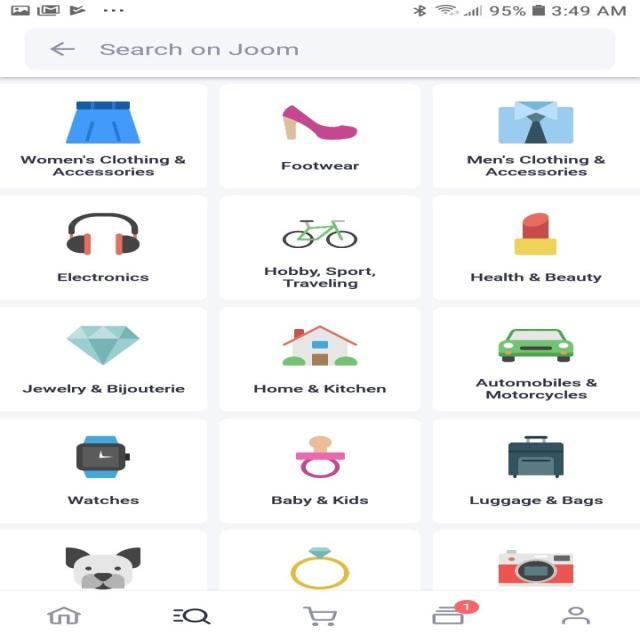EditText: (24, 27, 614, 70)
Icon: (431, 600, 478, 624), (302, 606, 337, 626), (172, 608, 210, 625), (46, 606, 81, 624), (560, 606, 590, 624), (50, 42, 74, 56)
Image: (64, 547, 140, 590), (65, 102, 142, 144), (497, 101, 572, 144), (66, 212, 140, 255), (282, 325, 358, 366), (64, 326, 140, 365), (498, 549, 574, 586), (282, 105, 358, 140), (290, 546, 350, 589), (498, 329, 574, 362), (508, 436, 564, 478), (76, 436, 130, 478), (282, 219, 358, 248), (295, 436, 345, 478), (512, 212, 556, 255)
Text: (19, 155, 186, 176), (467, 155, 605, 176), (474, 378, 596, 400), (264, 267, 375, 289), (100, 43, 298, 55), (22, 384, 185, 394), (470, 273, 602, 283), (470, 496, 602, 506), (253, 384, 386, 393), (271, 496, 368, 506), (56, 272, 148, 281), (66, 495, 138, 504), (281, 162, 359, 170)
